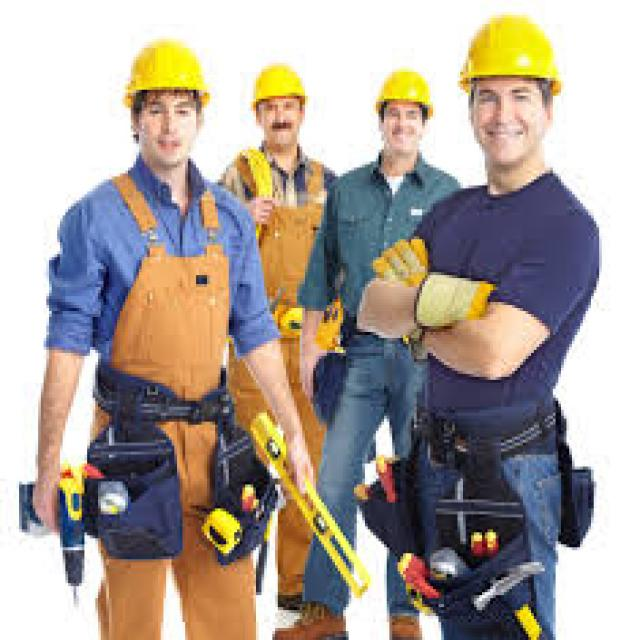Safety-Helmet: (455, 9, 566, 93), (120, 33, 215, 102), (370, 63, 436, 114), (245, 56, 311, 105)
